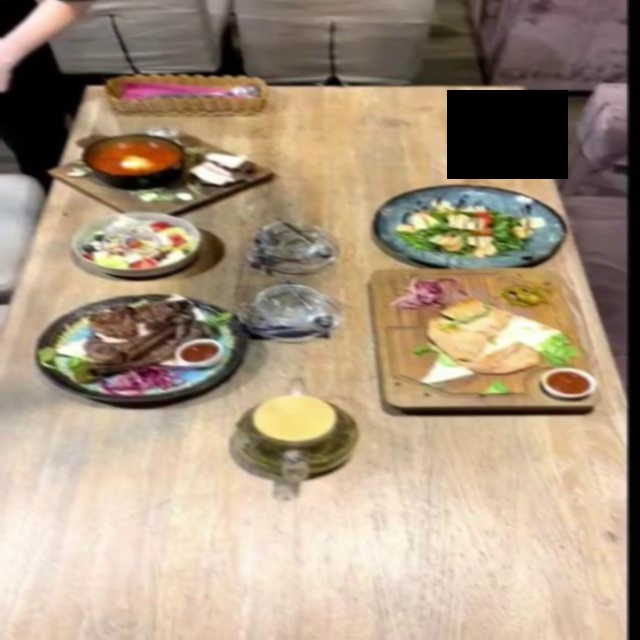meat: (361, 266, 604, 411), (33, 294, 249, 404)
salad: (375, 185, 568, 267), (70, 211, 201, 276)
soup: (47, 127, 274, 217)
tea: (231, 392, 360, 482)
